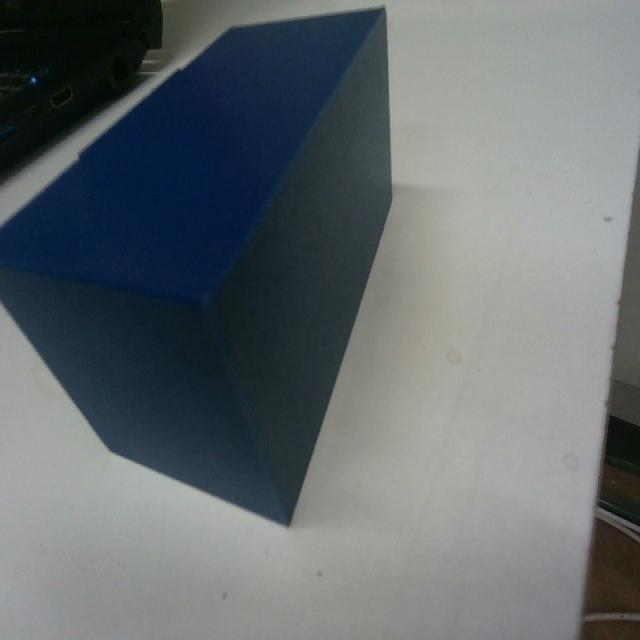Blue Cuboid: (0, 3, 395, 528)
